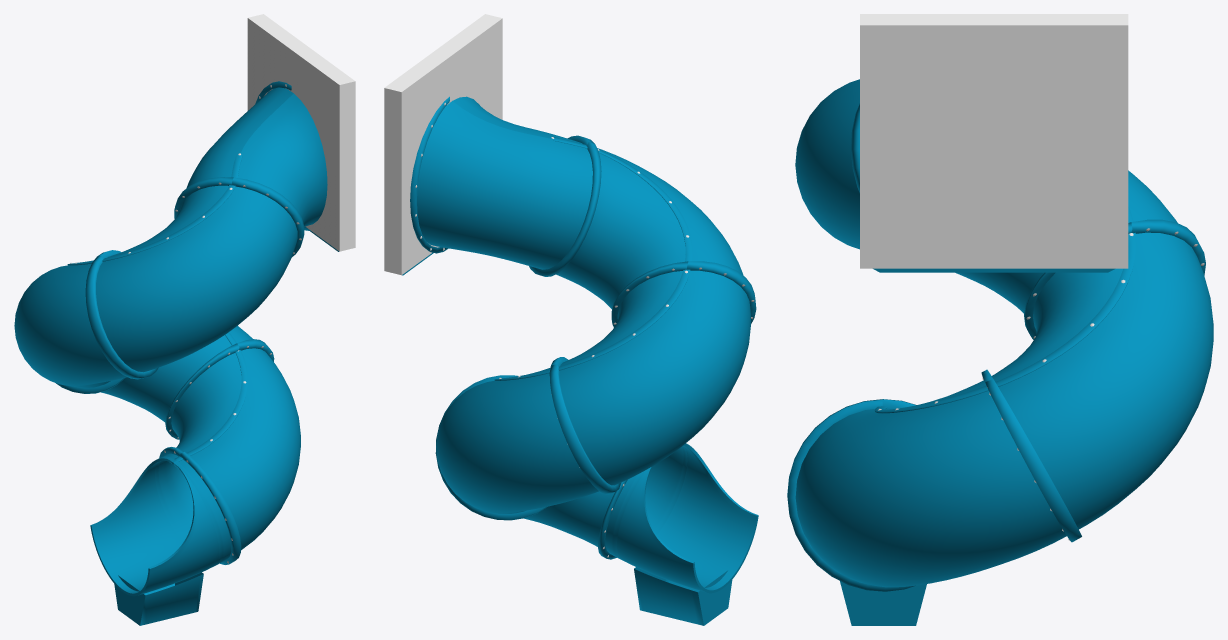
Rendered from TTWS-7.41c904ba.glb.
3 views of the same model, side by side, from view 1: azimuth 30°, elevation 25°; view 2: azimuth 150°, elevation 25°; view 3: azimuth 270°, elevation 25° (orthographic). The views are drawn at different scales.
Visible parts, largest first — view 1: NurbsPath001,_colorize_, joint_c,1,8; view 2: NurbsPath001,_colorize_, joint_c,1,8; view 3: NurbsPath001,_colorize_, joint_c,1,8.
Boxes of the visible parts, x1,y1,x2,y2 form: NurbsPath001,_colorize_: (14,81,338,625); joint_c,1,8: (247,14,355,251); NurbsPath001,_colorize_: (402,96,758,625); joint_c,1,8: (384,14,502,275); NurbsPath001,_colorize_: (787,79,1213,625); joint_c,1,8: (860,14,1128,268).
Size of the model in its own units: 1.71 by 2.94 by 1.59.
